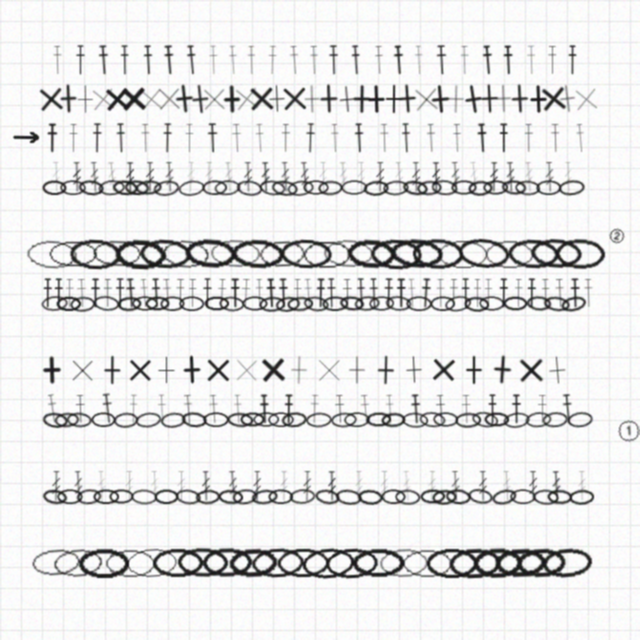chain: (457, 236, 511, 271), (301, 546, 356, 580), (541, 546, 594, 580), (125, 546, 179, 579), (390, 237, 443, 270), (530, 237, 583, 270), (29, 546, 82, 579), (51, 546, 104, 579), (325, 547, 379, 579), (160, 237, 212, 270), (184, 237, 236, 270), (25, 238, 78, 270), (69, 238, 122, 270), (231, 238, 284, 270), (251, 547, 304, 579), (448, 547, 501, 579), (114, 238, 166, 270), (139, 238, 191, 270), (280, 238, 332, 270), (370, 238, 422, 270), (507, 238, 559, 270), (494, 547, 546, 579), (257, 238, 308, 270), (346, 238, 397, 270), (228, 547, 279, 579), (516, 547, 567, 579), (209, 238, 261, 269), (322, 238, 374, 269), (177, 547, 229, 578), (378, 547, 430, 578), (91, 238, 142, 269), (412, 238, 463, 269), (555, 238, 606, 269), (202, 547, 253, 578), (437, 239, 489, 269), (104, 548, 156, 578), (277, 548, 329, 578), (352, 548, 404, 578), (401, 548, 453, 578), (426, 548, 478, 578), (473, 547, 523, 578), (47, 239, 98, 269), (301, 239, 352, 269), (78, 548, 129, 578), (152, 548, 203, 578), (484, 239, 534, 269), (560, 294, 587, 314), (491, 487, 518, 507), (444, 294, 472, 313), (471, 410, 499, 429), (467, 487, 494, 506), (153, 179, 180, 197), (178, 179, 205, 197), (236, 179, 263, 197), (259, 179, 286, 197), (271, 179, 298, 197), (287, 179, 314, 197), (543, 295, 570, 313), (135, 411, 162, 429), (503, 411, 530, 429), (251, 488, 278, 506), (314, 488, 341, 506), (335, 488, 362, 506), (402, 179, 428, 197), (275, 295, 301, 313), (303, 295, 329, 313), (42, 411, 68, 429), (160, 411, 186, 429), (42, 488, 68, 506), (175, 488, 201, 506), (98, 179, 125, 196), (135, 179, 162, 196), (214, 179, 241, 196), (431, 179, 458, 196), (558, 179, 585, 196), (41, 295, 68, 312), (93, 295, 120, 312), (385, 295, 412, 312), (419, 411, 446, 428), (525, 411, 552, 428), (289, 488, 316, 505), (78, 179, 104, 196), (112, 179, 138, 196), (124, 179, 150, 196), (501, 179, 527, 196), (339, 295, 365, 312), (354, 295, 380, 312), (526, 295, 552, 312), (181, 411, 207, 428), (281, 411, 307, 428), (542, 411, 568, 428), (567, 411, 593, 428), (76, 488, 102, 505), (232, 488, 258, 505), (445, 488, 471, 505), (363, 180, 389, 196), (383, 180, 409, 196), (259, 296, 285, 312), (287, 296, 313, 312), (54, 412, 80, 428), (66, 412, 92, 428), (113, 412, 139, 428), (227, 412, 253, 428), (306, 412, 332, 428), (331, 412, 357, 428), (402, 412, 428, 428), (455, 412, 481, 428), (131, 489, 157, 505), (195, 489, 221, 505), (357, 489, 383, 505), (533, 489, 559, 505), (318, 180, 343, 196), (417, 180, 442, 196), (468, 180, 493, 196), (515, 180, 540, 196), (70, 296, 95, 312), (117, 296, 142, 312), (219, 296, 244, 312), (464, 296, 489, 312), (381, 412, 406, 428), (218, 489, 243, 505), (395, 489, 420, 505), (432, 489, 457, 505), (547, 489, 572, 505), (569, 489, 594, 505), (60, 180, 86, 195), (303, 180, 329, 195), (341, 180, 367, 195), (451, 180, 477, 195), (132, 296, 158, 311), (242, 296, 268, 311), (322, 296, 348, 311), (406, 296, 432, 311), (203, 412, 229, 427), (253, 412, 279, 427), (268, 412, 294, 427), (344, 412, 370, 427), (57, 489, 83, 504), (93, 489, 119, 504), (510, 489, 536, 504), (42, 180, 67, 195), (202, 180, 227, 195), (483, 180, 508, 195), (536, 180, 561, 195), (56, 296, 81, 311), (145, 296, 170, 311), (160, 296, 185, 311), (179, 296, 204, 311), (204, 296, 229, 311), (369, 296, 394, 311), (430, 296, 455, 311), (479, 296, 504, 311), (503, 296, 528, 311), (91, 412, 116, 427), (240, 412, 265, 427), (366, 412, 391, 427), (433, 412, 458, 427), (484, 412, 509, 427), (109, 489, 134, 504), (154, 489, 179, 504), (268, 489, 293, 504), (381, 489, 406, 504), (420, 489, 445, 504)
half_double: (45, 393, 60, 424), (100, 393, 115, 424), (162, 45, 176, 75), (160, 278, 174, 308), (181, 394, 195, 424), (358, 394, 372, 424), (97, 45, 110, 75), (185, 45, 198, 75), (288, 45, 301, 75), (392, 45, 405, 75), (435, 45, 448, 75), (481, 45, 494, 75), (206, 123, 219, 153), (230, 123, 243, 153), (574, 123, 587, 153), (75, 278, 88, 308), (138, 278, 151, 308), (239, 278, 252, 308), (302, 278, 315, 308), (553, 278, 566, 308), (207, 394, 220, 424), (333, 394, 346, 424), (434, 394, 447, 424), (561, 394, 574, 424), (142, 45, 154, 75), (227, 45, 239, 75), (308, 45, 320, 75), (350, 45, 362, 75), (373, 45, 385, 75), (413, 45, 425, 75), (502, 45, 514, 75), (525, 45, 537, 75), (546, 45, 558, 75), (46, 123, 58, 153), (91, 123, 103, 153), (115, 123, 127, 153), (254, 123, 266, 153), (329, 123, 341, 153), (353, 123, 365, 153), (378, 123, 390, 153), (400, 123, 412, 153), (425, 123, 437, 153), (451, 123, 463, 153), (476, 123, 488, 153), (549, 123, 561, 153), (114, 278, 126, 308), (125, 278, 137, 308), (150, 278, 162, 308), (174, 278, 186, 308), (216, 278, 228, 308), (229, 278, 241, 308), (265, 278, 277, 308), (341, 278, 353, 308), (355, 278, 367, 308), (368, 278, 380, 308), (395, 278, 407, 308), (406, 278, 418, 308), (420, 278, 432, 308), (569, 278, 581, 308), (74, 394, 86, 424), (156, 394, 168, 424), (232, 394, 244, 424), (384, 394, 396, 424), (410, 394, 422, 424), (460, 394, 472, 424), (536, 394, 548, 424), (52, 45, 63, 75), (75, 45, 86, 75), (119, 45, 130, 75), (208, 45, 219, 75), (246, 45, 257, 75), (267, 45, 278, 75), (328, 45, 339, 75), (459, 45, 470, 75), (567, 45, 578, 75), (68, 123, 79, 153), (140, 123, 151, 153), (162, 123, 173, 153), (184, 123, 195, 153), (280, 123, 291, 153), (305, 123, 316, 153), (498, 123, 509, 153), (523, 123, 534, 153), (42, 278, 53, 308), (53, 278, 64, 308), (64, 278, 75, 308), (90, 278, 101, 308), (102, 278, 113, 308), (187, 278, 198, 308), (202, 278, 213, 308), (254, 278, 265, 308), (278, 278, 289, 308), (292, 278, 303, 308), (315, 278, 326, 308), (326, 278, 337, 308), (383, 278, 394, 308), (435, 278, 446, 308), (448, 278, 459, 308), (460, 278, 471, 308), (472, 278, 483, 308), (483, 278, 494, 308), (498, 278, 509, 308), (513, 278, 524, 308), (526, 278, 537, 308), (540, 278, 551, 308), (583, 278, 594, 308), (128, 394, 139, 424), (259, 394, 270, 424), (283, 394, 294, 424), (309, 394, 320, 424), (487, 394, 498, 424), (511, 394, 522, 424)
noise: (616, 418, 640, 443), (607, 226, 626, 245), (12, 132, 41, 143)
single: (456, 82, 490, 116), (168, 82, 201, 115), (230, 82, 263, 115), (537, 82, 570, 115), (551, 82, 584, 115), (35, 83, 67, 115), (87, 83, 119, 115), (101, 83, 133, 115), (135, 83, 167, 115), (184, 83, 216, 115), (410, 83, 442, 115), (424, 83, 456, 115), (570, 83, 602, 115), (541, 354, 573, 386), (331, 83, 362, 115), (53, 83, 84, 114), (118, 83, 149, 114), (246, 83, 277, 114), (261, 83, 292, 114), (279, 83, 310, 114), (313, 83, 344, 114), (392, 83, 423, 114), (474, 83, 505, 114), (488, 83, 519, 114), (504, 83, 535, 114), (176, 354, 207, 385), (398, 354, 429, 385), (428, 354, 459, 385), (487, 354, 518, 385), (154, 83, 184, 114), (258, 354, 288, 385), (70, 84, 100, 114), (199, 84, 229, 114), (297, 84, 327, 114), (347, 84, 377, 114), (361, 84, 391, 114), (379, 84, 409, 114), (441, 84, 471, 114), (523, 84, 553, 114), (37, 355, 67, 385), (67, 355, 97, 385), (97, 355, 127, 385), (125, 355, 155, 385), (151, 355, 181, 385), (203, 355, 233, 385), (284, 355, 314, 385), (314, 355, 344, 385), (342, 355, 372, 385), (459, 355, 489, 385), (516, 355, 546, 385), (217, 84, 246, 114), (232, 355, 261, 385), (371, 355, 400, 385)
treble: (106, 162, 118, 192), (223, 162, 235, 192), (299, 162, 311, 192), (393, 162, 405, 192), (468, 162, 480, 192), (523, 162, 535, 192), (227, 471, 239, 501), (401, 471, 413, 501), (89, 162, 100, 192), (164, 162, 175, 192), (185, 162, 196, 192), (260, 162, 271, 192), (280, 162, 291, 192), (338, 162, 349, 192), (450, 162, 461, 192), (505, 162, 516, 192), (544, 162, 555, 192), (73, 471, 84, 501), (96, 471, 107, 501), (149, 471, 160, 501), (450, 471, 461, 501), (501, 471, 512, 501), (551, 471, 562, 501), (51, 162, 61, 192), (72, 162, 82, 192), (125, 162, 135, 192), (145, 162, 155, 192), (204, 162, 214, 192), (243, 162, 253, 192), (318, 162, 328, 192), (356, 162, 366, 192), (375, 162, 385, 192), (411, 162, 421, 192), (431, 162, 441, 192), (489, 162, 499, 192), (563, 162, 573, 192), (51, 471, 61, 501), (124, 471, 134, 501), (176, 471, 186, 501), (201, 471, 211, 501), (252, 471, 262, 501), (279, 471, 289, 501), (302, 471, 312, 501), (327, 471, 337, 501), (354, 471, 364, 501), (379, 471, 389, 501), (427, 471, 437, 501), (478, 471, 488, 501), (528, 471, 538, 501), (577, 471, 587, 501)
